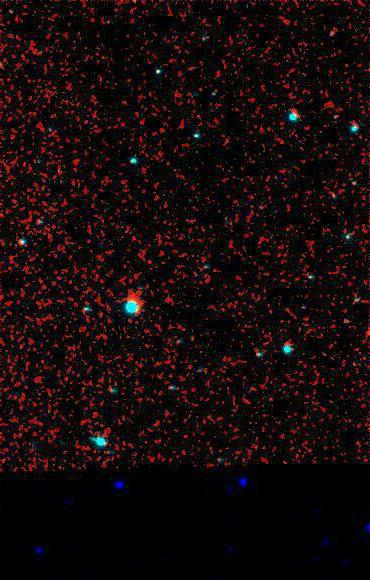star: (314, 338, 344, 368)
